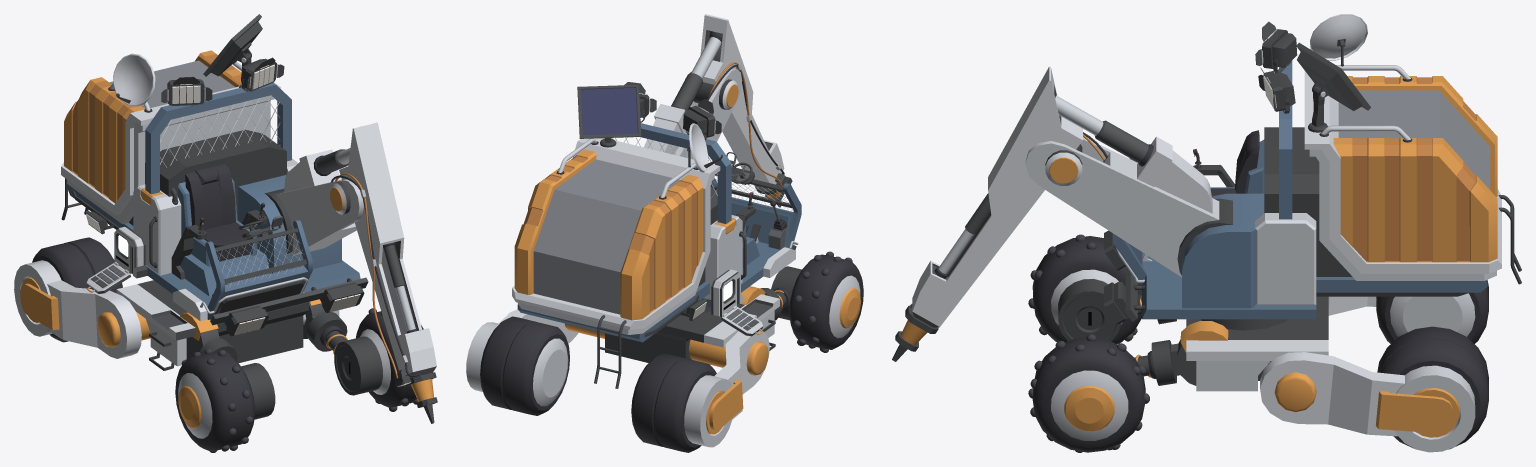
Rendered from Vehicle_Export.fbx.
3 renders of one model, left to right at view 1: azimuth 30°, elevation 25°; view 2: azimuth 150°, elevation 25°; view 3: azimuth 270°, elevation 25°, orthographic. The views are drawn at different scales.
Visible parts, largest first — view 1: Cube.029, Cube.046, Cylinder.001, Cube.005, Cube.048, Cube.014, Cube.003, Drill_Main.001, Cube.002, Cylinder.006, Cube.009, Cube.001 (+44 smaller); view 2: Cube.046, Cylinder.004, Cube, Cube.029, Cylinder.001, Cube.015, Cylinder.009, Cube.003, Cube.018, Cube.014, Cube.002, Cube.001 (+24 smaller); view 3: Cube.046, Drill_Main.001, Cube.029, Cylinder.001, Cube.014, Cube.009, Cylinder.004, Cube.004, Cube, Cube.003, Cube.005, Cylinder.009 (+32 smaller).
Boxes of the visible parts, x1,y1,x2,y2 form: Cube.029: [339, 122, 436, 378]; Cube.046: [64, 50, 241, 203]; Cylinder.001: [175, 311, 423, 451]; Cube.005: [129, 129, 286, 225]; Cube.048: [67, 95, 274, 224]; Cube.014: [47, 280, 141, 358]; Cube.003: [145, 220, 360, 319]; Drill_Main.001: [275, 179, 363, 255]; Cube.002: [145, 82, 291, 194]; Cylinder.006: [241, 336, 382, 419]; Cube.009: [238, 175, 341, 273]; Cube.001: [133, 184, 181, 275]; Cube.046: [514, 149, 703, 320]; Cylinder.004: [480, 316, 716, 452]; Cube: [512, 138, 720, 329]; Cube.029: [700, 14, 784, 184]; Cylinder.001: [789, 254, 863, 349]; Cube.015: [577, 84, 641, 138]; Cylinder.009: [466, 322, 732, 447]; Cube.003: [702, 179, 801, 307]; Cube.018: [605, 311, 711, 362]; Cube.014: [498, 309, 769, 418]; Cube.002: [640, 123, 731, 223]; Cube.001: [703, 215, 742, 299]; Cube.046: [1333, 76, 1497, 262]; Drill_Main.001: [1025, 137, 1219, 277]; Cube.029: [912, 66, 1082, 327]; Cylinder.001: [1032, 236, 1145, 452]; Cube.014: [1260, 296, 1404, 436]; Cube.009: [1182, 193, 1264, 308]; Cylinder.004: [1376, 281, 1488, 449]; Cube.004: [1255, 213, 1316, 304]; Cube: [1304, 71, 1501, 273]; Cube.003: [1113, 158, 1316, 319]; Cube.005: [1264, 127, 1352, 276]; Cylinder.009: [1394, 365, 1475, 452].
Size of the model in its own units: 1161 by 1386 by 2161.
